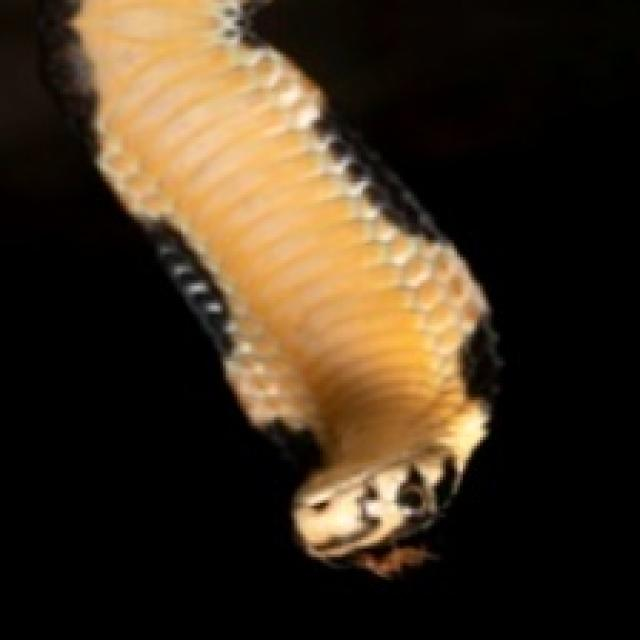king cobra: (74, 0, 486, 571)
